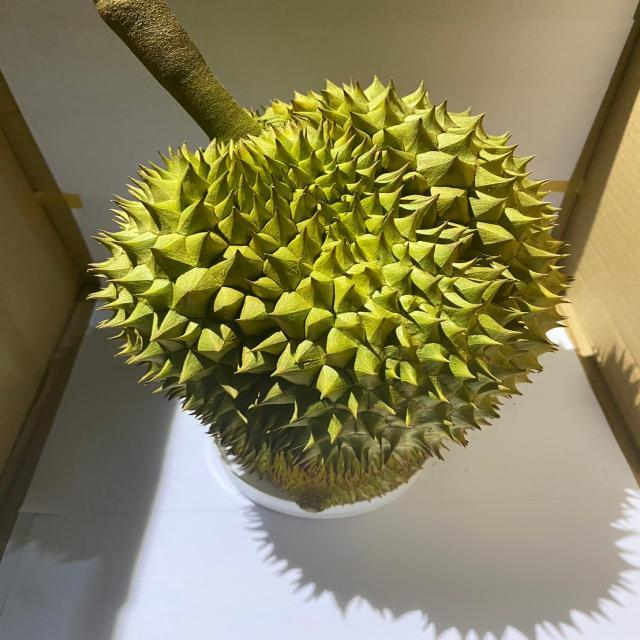immature: (81, 77, 577, 513)
